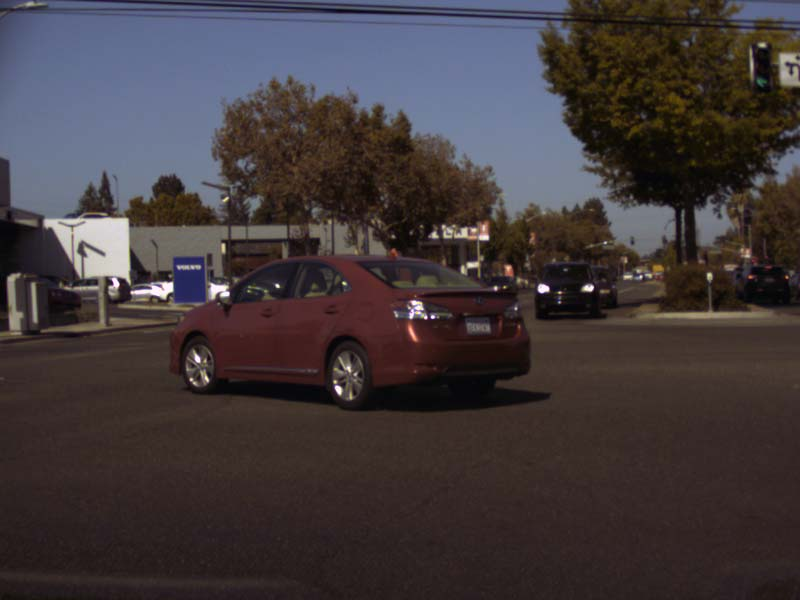Green: (749, 43, 772, 92)
